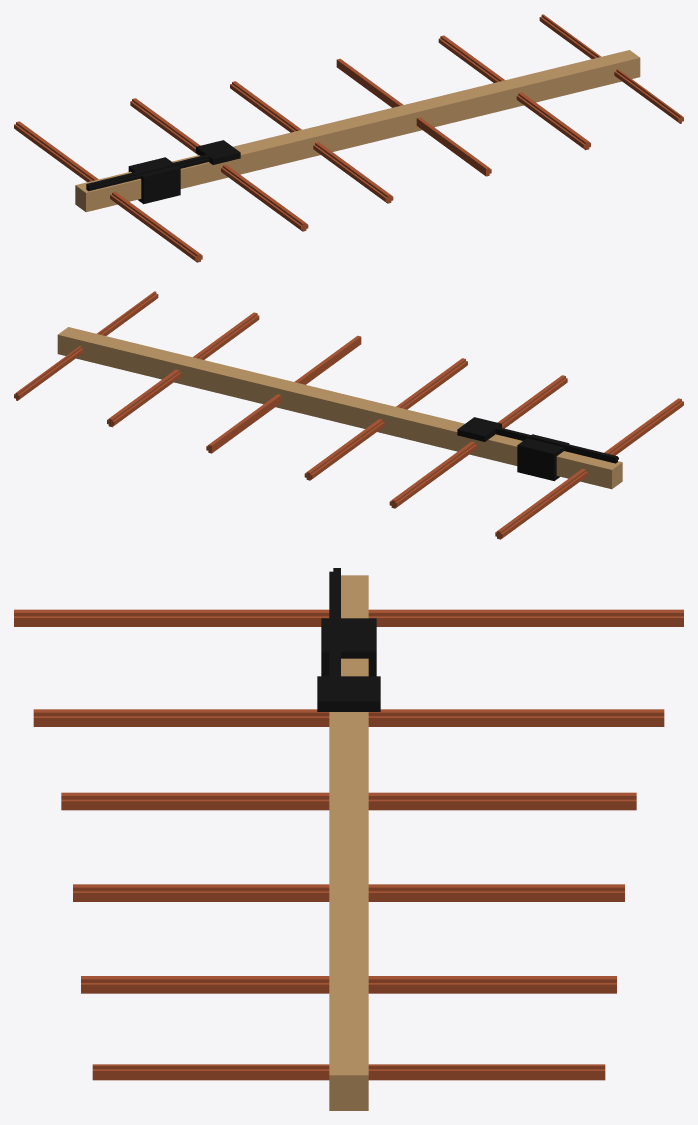
File: directional_antenna.glb
The picture shows the model from 3 angles, top to bottom: view 1: azimuth 30°, elevation 25°; view 2: azimuth 150°, elevation 25°; view 3: azimuth 270°, elevation 25°; orthographic projection. The views are drawn at different scales.
Parts seen in each view (by area): view 1: directional_antenna:compound; view 2: directional_antenna:compound; view 3: directional_antenna:compound.
Part boxes in pixels (x1,y1,x2,y2): directional_antenna:compound: [14, 14, 683, 262]; directional_antenna:compound: [14, 291, 683, 539]; directional_antenna:compound: [14, 568, 683, 1110].
Bounding box in the file's own units: 0.6 × 0.03 × 0.34.
